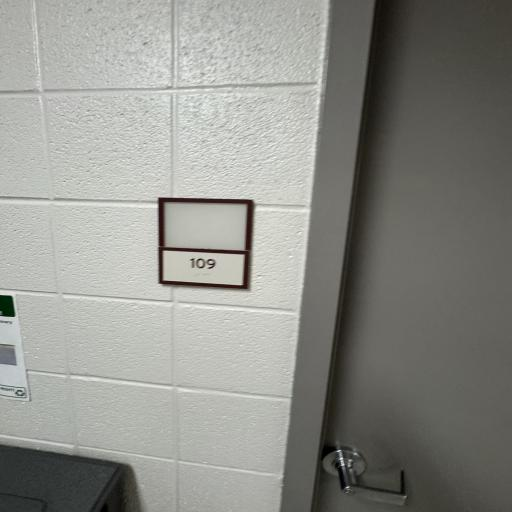door: (353, 12, 512, 512)
room 109 sign: (155, 193, 257, 295)
